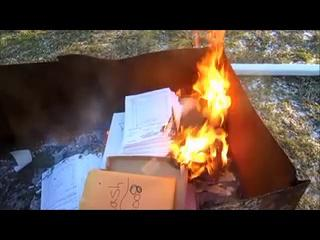Fire: (174, 33, 226, 178)
